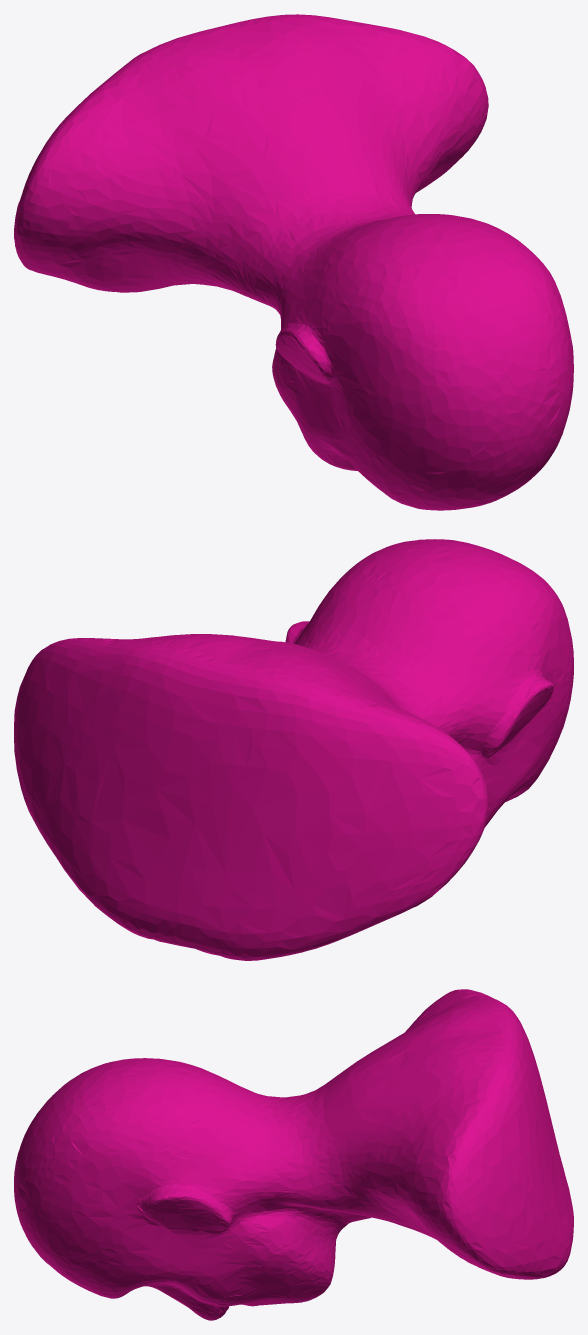
File: head.obj
The picture shows the model from 3 angles, top to bottom: view 1: azimuth 30°, elevation 25°; view 2: azimuth 150°, elevation 25°; view 3: azimuth 270°, elevation 25°; orthographic projection. The views are drawn at different scales.
Visible parts, largest first — view 1: obj_0; view 2: obj_0; view 3: obj_0.
Boxes of the visible parts, x1,y1,x2,y2 form: obj_0: (14,14,573,510); obj_0: (14,539,573,960); obj_0: (14,989,573,1320).
Bounding box in the file's own units: 27.58 × 19.52 × 34.23.
